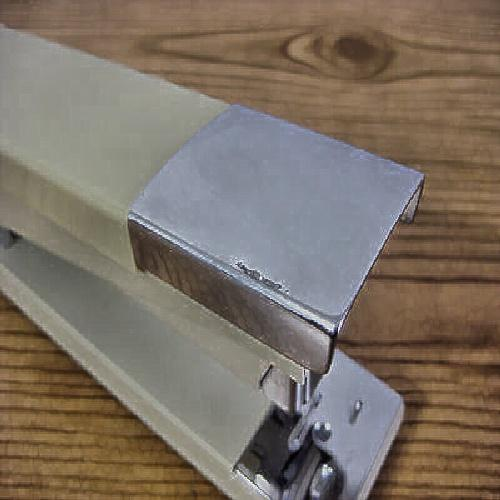stapler: (13, 46, 419, 476)
